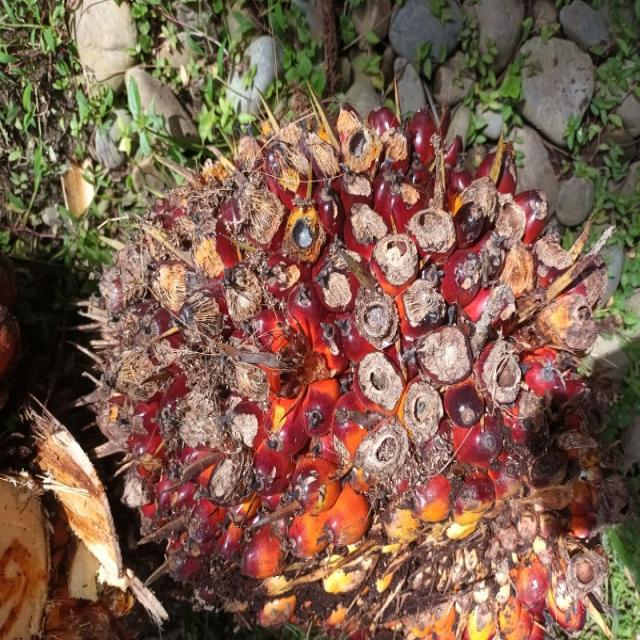fraksi 3: (51, 2, 478, 640)
